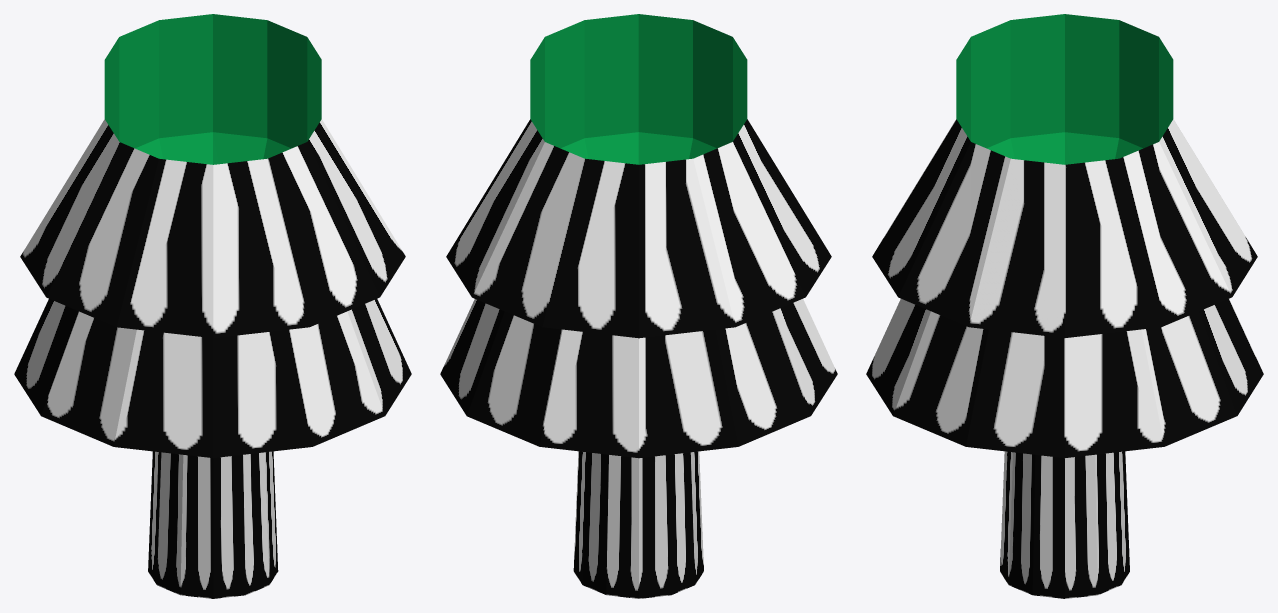
3 views of the same model, side by side, from view 1: azimuth 30°, elevation 25°; view 2: azimuth 150°, elevation 25°; view 3: azimuth 270°, elevation 25° (orthographic).
Visible parts, largest first — view 1: 006_L_606400_PART_1; view 2: 006_L_606400_PART_1; view 3: 006_L_606400_PART_1.
Part boxes in pixels (x1,y1,x2,y2): 006_L_606400_PART_1: (14,14,411,598); 006_L_606400_PART_1: (440,14,837,598); 006_L_606400_PART_1: (866,14,1263,598).
Size of the model in its own units: 2.93 by 4.16 by 2.93.
Materials: 4 (3 with a texture image).
